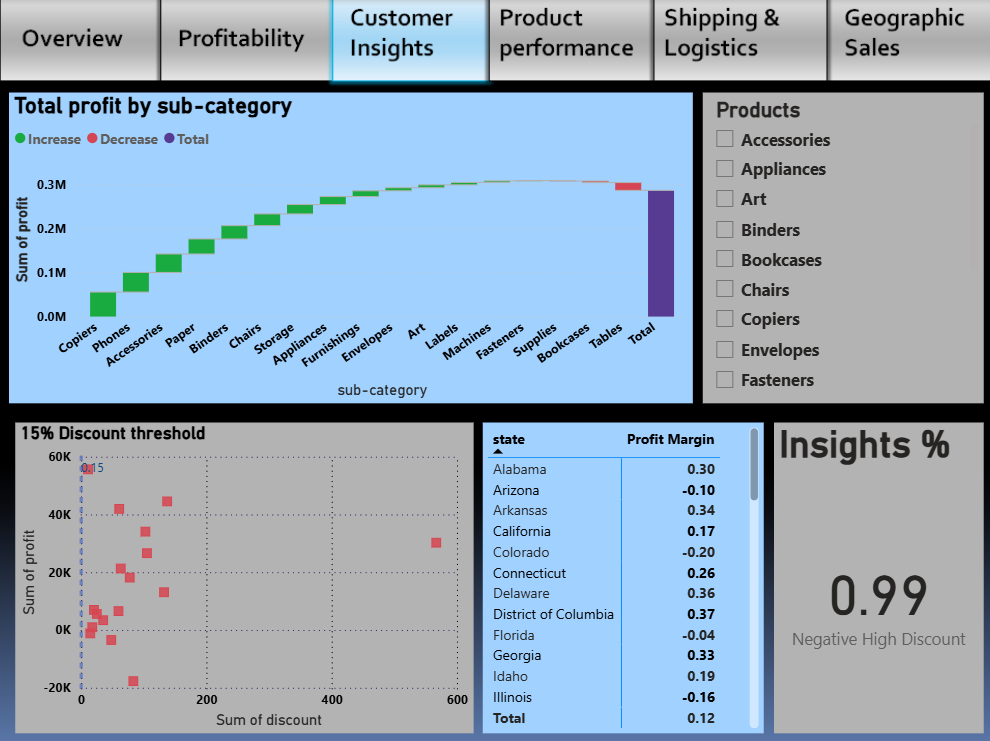

Layout of this report page (visuals, bound fields, positions):
{"tool":"powerbi","page":{"name":"Customer insights","canvas":[1280,720],"ordinal":2},"visuals":[{"type":"actionButton","box":[156.4,0,156.4,79.6],"z":0},{"type":"actionButton","box":[312.9,0,164.7,79.6],"z":1000},{"type":"actionButton","box":[625.7,0,168.8,79.6],"z":2000},{"type":"actionButton","box":[794.5,0,168.8,79.6],"z":3000},{"type":"actionButton","box":[955.1,0,170.2,79.6],"z":4000},{"type":"waterfallChart","title":"Total profit by sub-category","fields":{"Category":["Superstore.sub-category"],"Y":["Sum(Superstore.profit)"]},"box":[168.8,88.8,660,300],"z":5000},{"type":"scatterChart","title":"15% Discount threshold","fields":{"X":["Sum(Superstore.discount)"],"Y":["Sum(Superstore.profit)"],"Category":["Superstore.sub-category"]},"box":[175,407.5,442.5,300],"z":6000},{"type":"pivotTable","fields":{"Rows":["Superstore.state"],"Values":["DateTable.Profit Margin"]},"box":[626.2,407.5,271.2,300],"z":7000},{"type":"slicer","fields":{"Values":["Superstore.sub-category"]},"box":[838.8,88.8,271.2,300],"z":8000},{"type":"card","title":"Insights %","fields":{"Values":["DateTable.Negative High Discount"]},"box":[907.5,407.5,202.5,300],"z":9000}]}

Visuals, with their boxes on the page's 1280x720 design canvas (x1, y1, x2, y2). These are canvas units, not pixel positions in the 990x741 screenshot, which may show the page scaled, cropped or inside an application window:
actionButton: x1=156, y1=0, x2=313, y2=80
actionButton: x1=313, y1=0, x2=478, y2=80
actionButton: x1=626, y1=0, x2=794, y2=80
actionButton: x1=794, y1=0, x2=963, y2=80
actionButton: x1=955, y1=0, x2=1125, y2=80
"Total profit by sub-category" waterfallChart: x1=169, y1=89, x2=829, y2=389
"15% Discount threshold" scatterChart: x1=175, y1=408, x2=618, y2=708
pivotTable - Superstore.state x DateTable.Profit Margin: x1=626, y1=408, x2=897, y2=708
slicer - Superstore.sub-category: x1=839, y1=89, x2=1110, y2=389
"Insights %" card: x1=908, y1=408, x2=1110, y2=708
